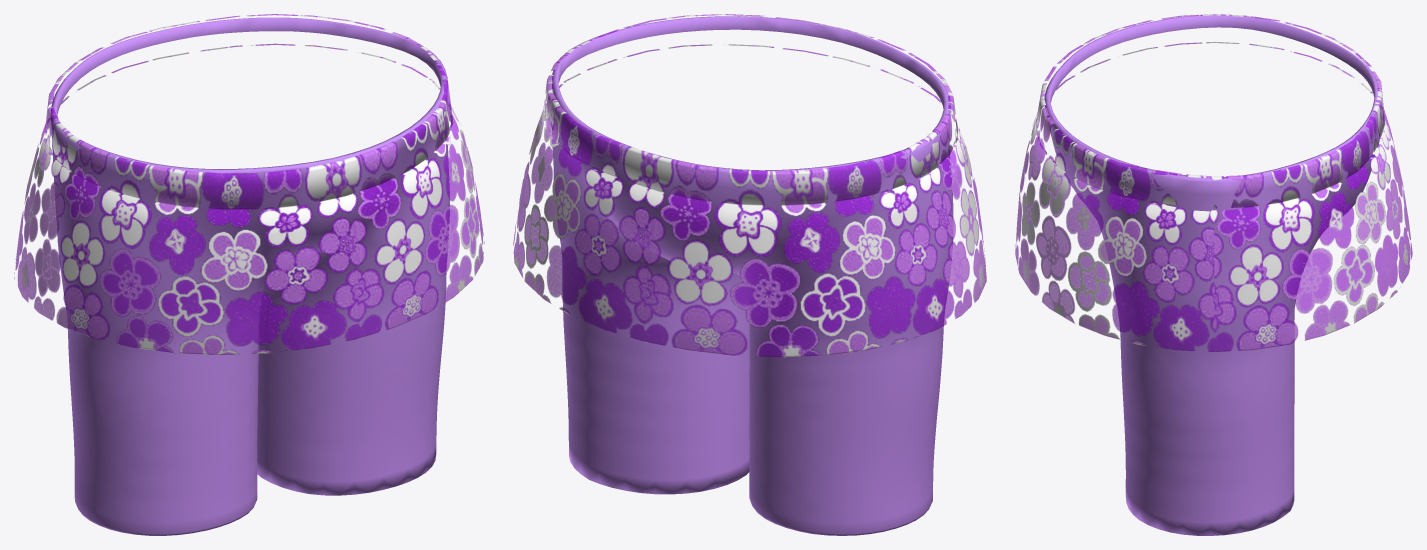
The model's file is hyein_pants.gltf.
The picture shows the model from 3 angles, left to right: view 1: azimuth 30°, elevation 25°; view 2: azimuth 150°, elevation 25°; view 3: azimuth 270°, elevation 25°; orthographic projection. The views are drawn at different scales.
Parts seen in each view (by area): view 1: hyein_pants-Mat (×2); view 2: hyein_pants-Mat (×2); view 3: hyein_pants-Mat (×2).
Part boxes in pixels (bbox=[...]): hyein_pants-Mat (×2): bbox=[14, 14, 484, 535]; hyein_pants-Mat (×2): bbox=[513, 14, 986, 535]; hyein_pants-Mat (×2): bbox=[1015, 14, 1412, 535].
Bounding box in the file's own units: 0.0403 × 0.0351 × 0.035.
2 materials, 1 textured.
